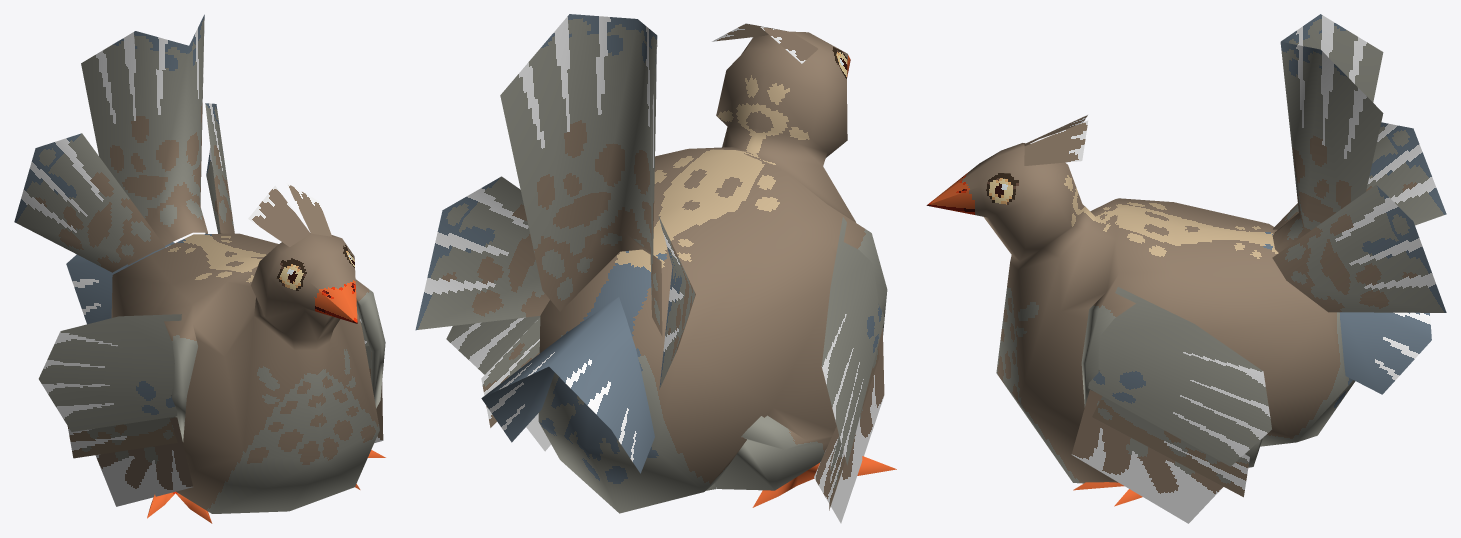
File: Chicken_2_posed.glb
3 views of the same model, side by side, from view 1: azimuth 30°, elevation 25°; view 2: azimuth 150°, elevation 25°; view 3: azimuth 270°, elevation 25° (orthographic). The views are drawn at different scales.
Parts seen in each view (by area): view 1: Chimken; view 2: Chimken; view 3: Chimken.
Boxes of the visible parts, left/top/right/bottom form: Chimken: left=14, top=14, right=385, bottom=523; Chimken: left=415, top=14, right=896, bottom=523; Chimken: left=926, top=14, right=1446, bottom=523.
Bounding box in the file's own units: 0.6965 × 0.8878 × 0.9639.
Materials: 1 (1 with a texture image).
